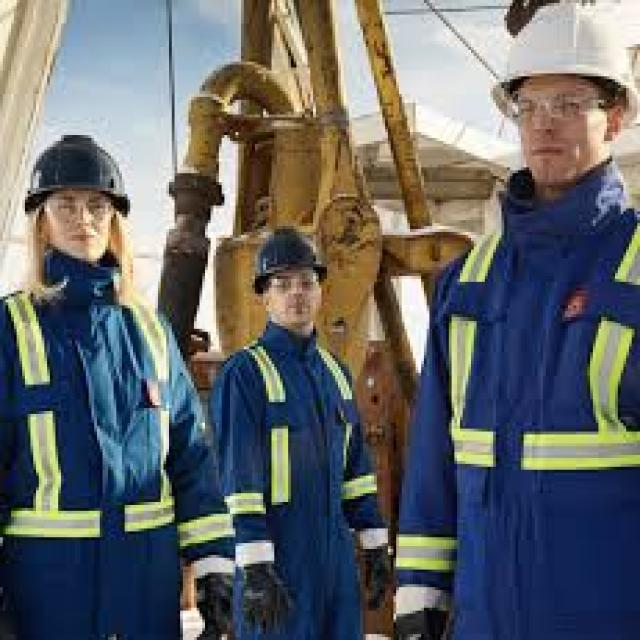vest: (393, 175, 640, 638), (4, 252, 239, 640), (208, 314, 390, 640)
